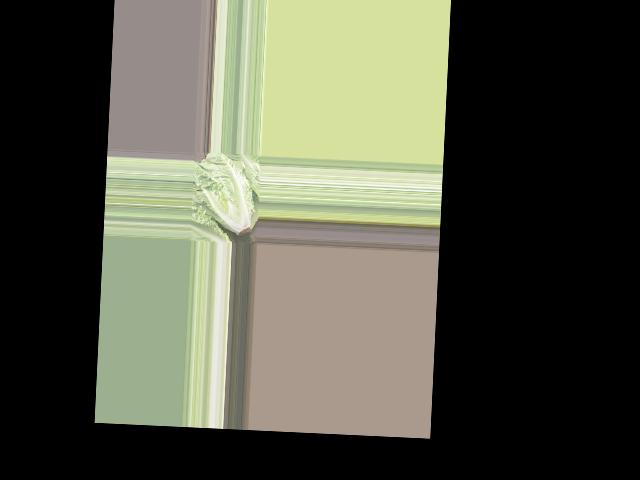lettuce: (195, 153, 262, 239)
